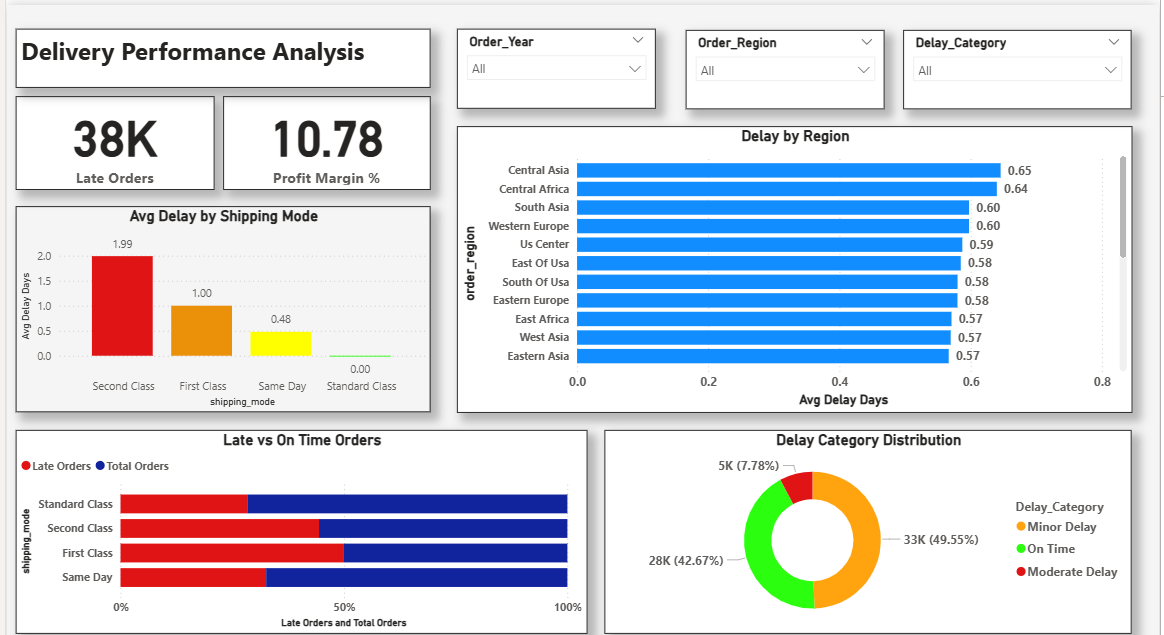

Layout of this report page (visuals, bound fields, positions):
{"tool":"powerbi","page":{"name":"Delivery Performance","canvas":[1280,720],"ordinal":1},"visuals":[{"type":"card","fields":{"Values":["fact_orders.Late Orders"]},"box":[9.6,101.5,220.9,104.3],"z":0},{"type":"card","fields":{"Values":["fact_orders.Profit Margin %"]},"box":[240.1,101.5,230.5,104.3],"z":1000},{"type":"clusteredColumnChart","title":"Avg Delay by Shipping Mode ","fields":{"Category":["fact_orders.shipping_mode"],"Y":["fact_orders.Avg Delay Days"]},"box":[9.6,223.7,461.1,229.2],"z":2000},{"type":"donutChart","title":"Delay Category Distribution ","fields":{"Category":["fact_orders.delay_category"],"Y":["fact_orders.Total Orders"]},"box":[664.2,472,585.9,226.4],"z":3000},{"type":"clusteredBarChart","title":"Delay by Region","fields":{"Category":["fact_orders.order_region"],"Y":["fact_orders.Avg Delay Days"]},"box":[499.5,134.5,750.6,318.4],"z":4000},{"type":"hundredPercentStackedBarChart","title":"Late vs On Time Orders ","fields":{"Category":["fact_orders.shipping_mode"],"Y":["fact_orders.Late Orders","fact_orders.Total Orders"]},"box":[9.6,472,635.3,226.4],"z":5000},{"type":"slicer","fields":{"Values":["fact_orders.order_year"]},"box":[499.5,26.1,220.9,89.2],"z":6000},{"type":"slicer","fields":{"Values":["fact_orders.order_region"]},"box":[754.7,27.4,220.9,87.8],"z":7000},{"type":"slicer","fields":{"Values":["fact_orders.delay_category"]},"box":[996.2,27.4,253.9,87.8],"z":8000},{"type":"textbox","box":[9.6,26.1,461.1,65.9],"z":9000}]}

Visuals, with their boxes in screenshot pixels (x1, y1, x2, y2):
card - fact_orders.Late Orders: crop(12, 91, 210, 185)
card - fact_orders.Profit Margin %: crop(219, 91, 426, 185)
"Avg Delay by Shipping Mode " clusteredColumnChart: crop(12, 201, 426, 407)
"Delay Category Distribution " donutChart: crop(601, 425, 1128, 628)
"Delay by Region" clusteredBarChart: crop(452, 121, 1128, 407)
"Late vs On Time Orders " hundredPercentStackedBarChart: crop(12, 425, 583, 628)
slicer - fact_orders.order_year: crop(452, 23, 651, 104)
slicer - fact_orders.order_region: crop(682, 25, 881, 104)
slicer - fact_orders.delay_category: crop(899, 25, 1128, 104)
textbox: crop(12, 23, 426, 83)
